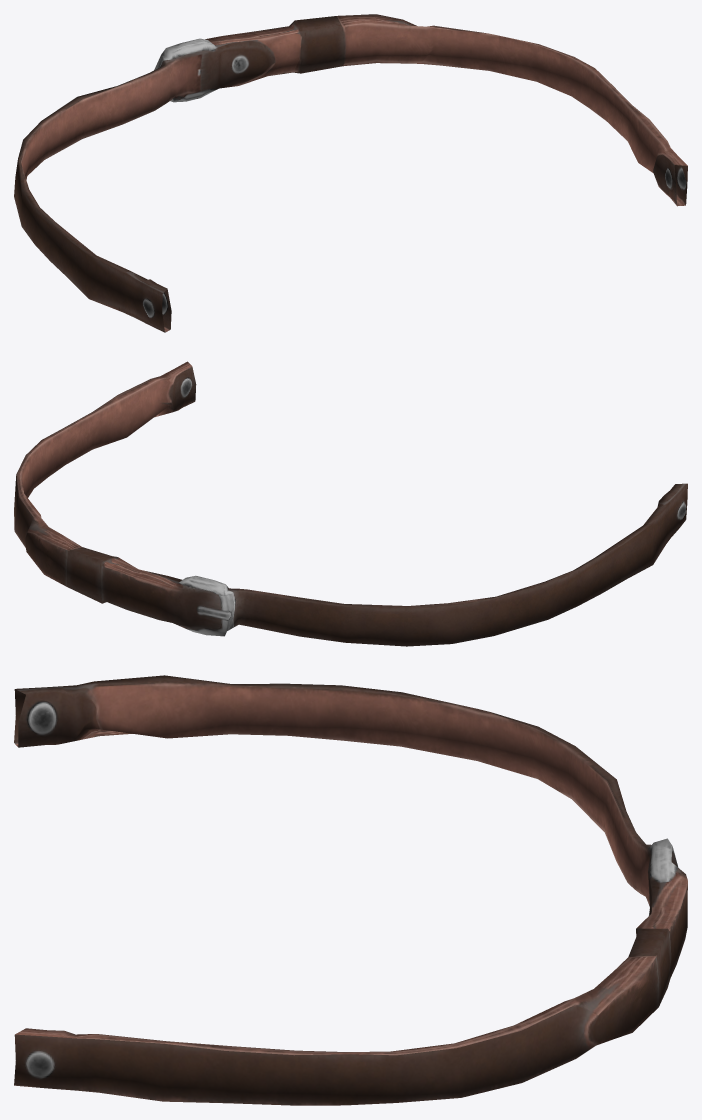
File: steampunk_glasses_back.glb
The picture shows the model from 3 angles, top to bottom: view 1: azimuth 30°, elevation 25°; view 2: azimuth 150°, elevation 25°; view 3: azimuth 270°, elevation 25°; orthographic projection. The views are drawn at different scales.
Visible parts, largest first — view 1: Googles_back; view 2: Googles_back; view 3: Googles_back.
Part boxes in pixels (x1,y1,x2,y2): Googles_back: [14, 14, 687, 332]; Googles_back: [14, 361, 687, 646]; Googles_back: [14, 675, 687, 1105].
Size of the model in its own units: 1.51 by 0.1384 by 1.14.
1 material, 1 textured.
